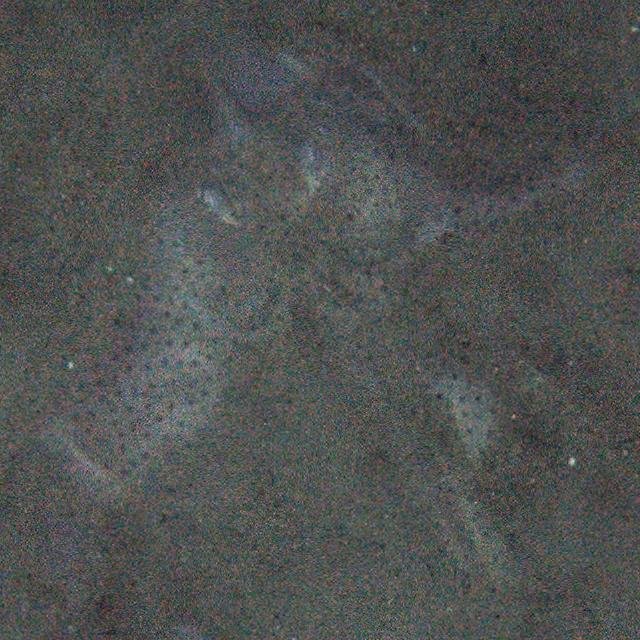skate: (97, 32, 601, 563)
